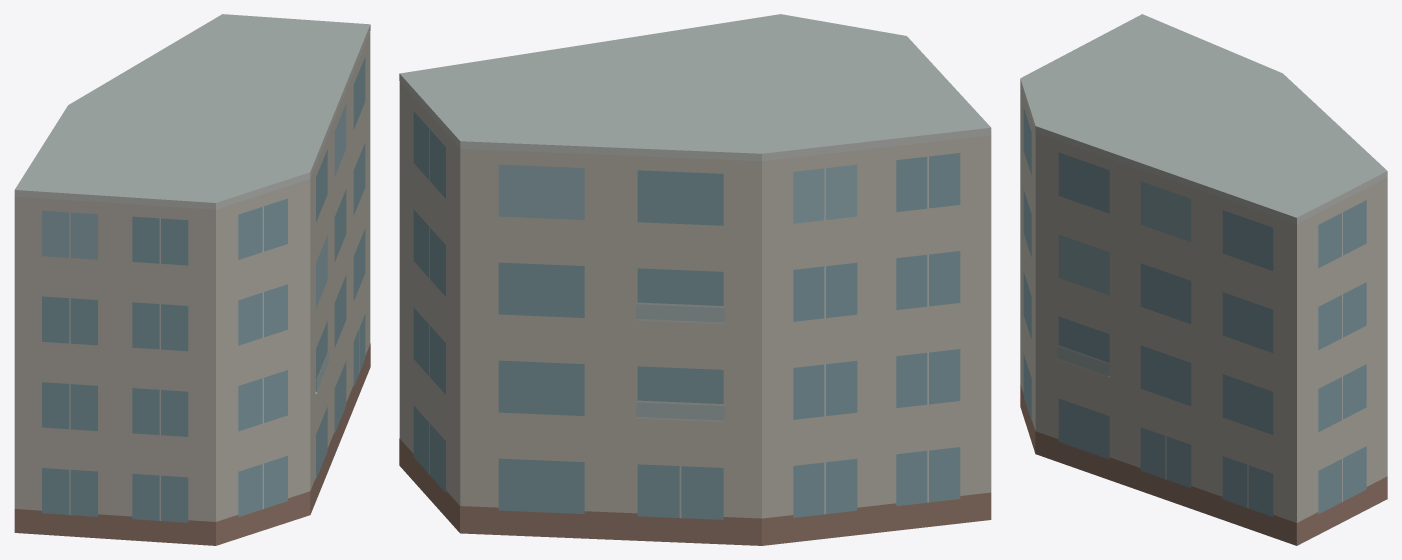
The model's file is survey-upis-33037659.glb.
The picture shows the model from 3 angles, left to right: view 1: azimuth 30°, elevation 25°; view 2: azimuth 150°, elevation 25°; view 3: azimuth 270°, elevation 25°; orthographic projection. The views are drawn at different scales.
Visible parts, largest first — view 1: survey-upis-33037659.tmp; view 2: survey-upis-33037659.tmp; view 3: survey-upis-33037659.tmp.
Part boxes in pixels (<box>): survey-upis-33037659.tmp: <box>14,14,370,545</box>; survey-upis-33037659.tmp: <box>399,14,991,545</box>; survey-upis-33037659.tmp: <box>1020,14,1387,545</box>.
Size of the model in its own units: 16.8 by 12.6 by 12.8.
